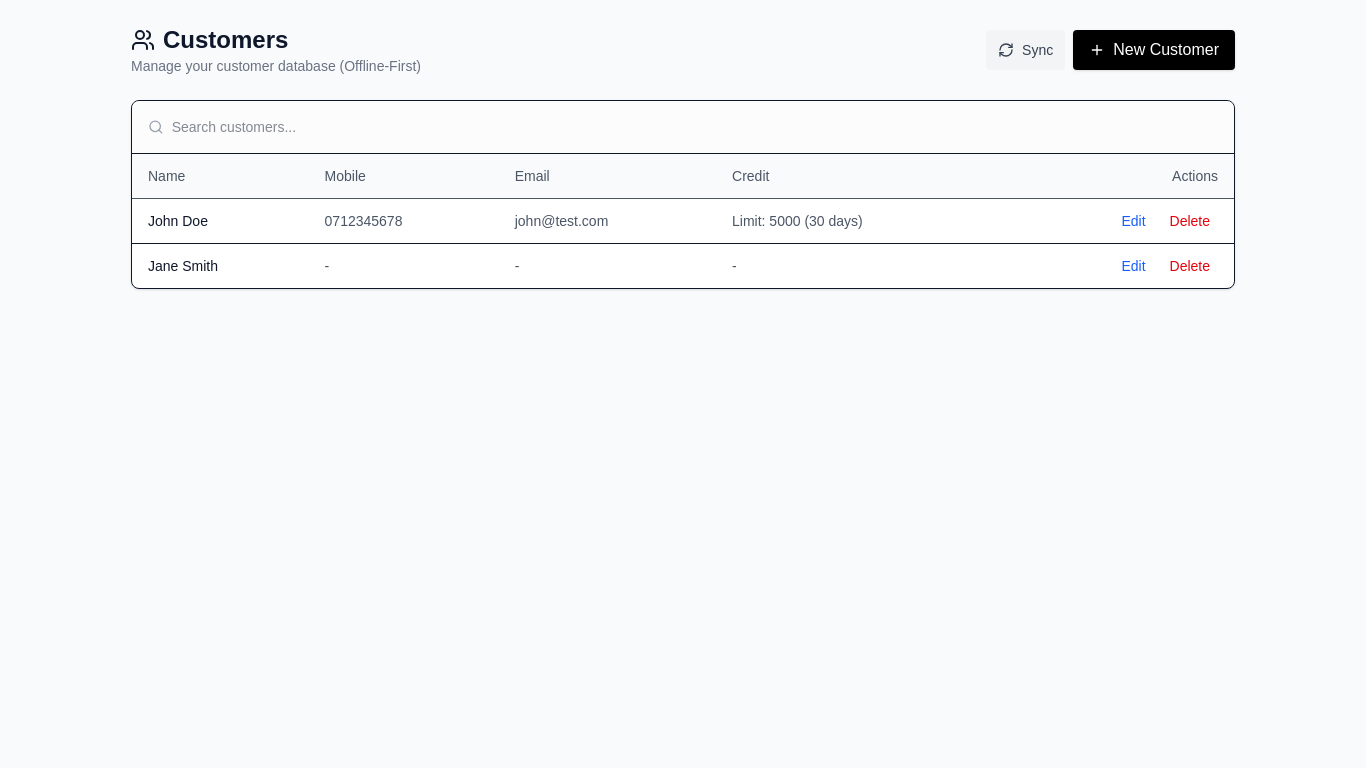
Scenario: CustomersPage › opens new customer form when "New Customer" clicked
The image size is (1366, 768).
Click the button "New Customer" at (1154, 50), box top-left (1073, 30), bottom-right (1235, 70)
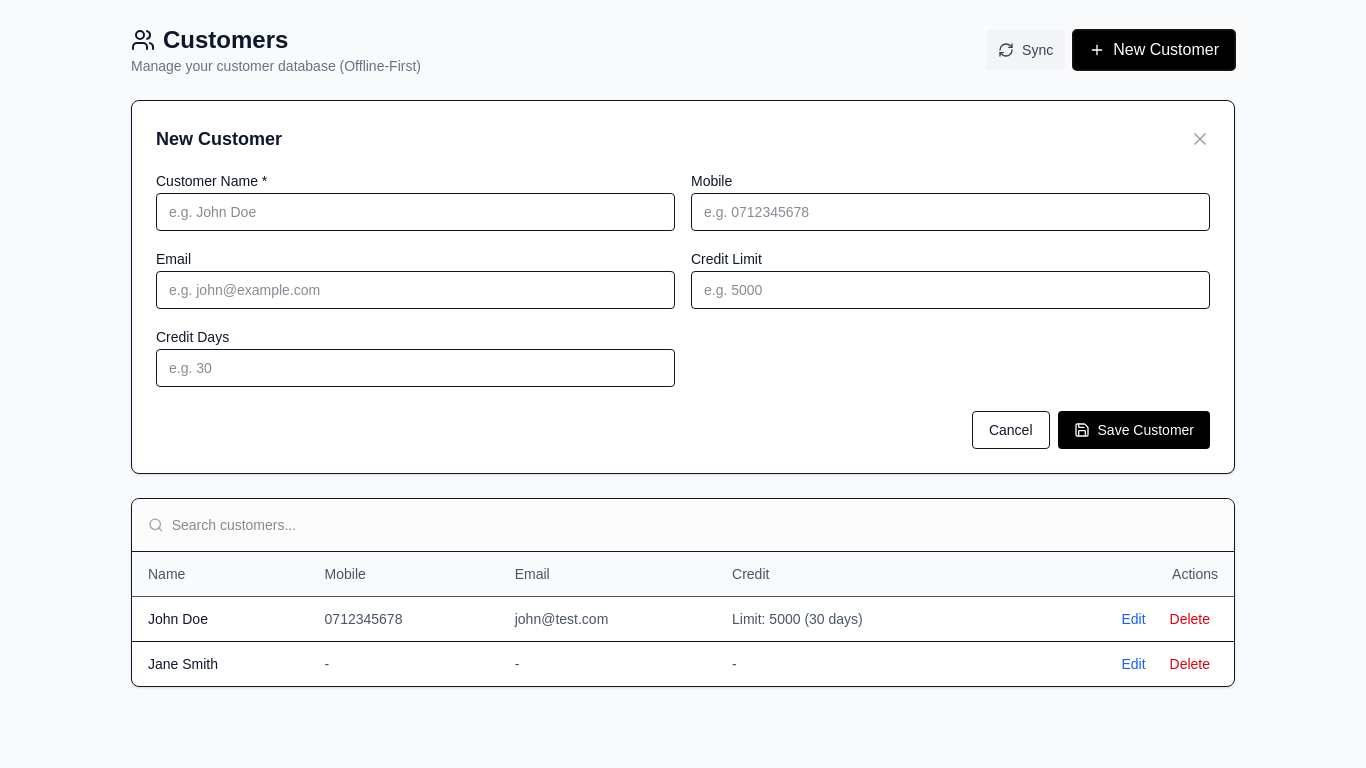
Expected: the heading "New Customer" is shown, top-left (156, 125), bottom-right (282, 153)
Expected: the field with placeholder "e.g. John Doe" is shown, top-left (156, 193), bottom-right (675, 231)
